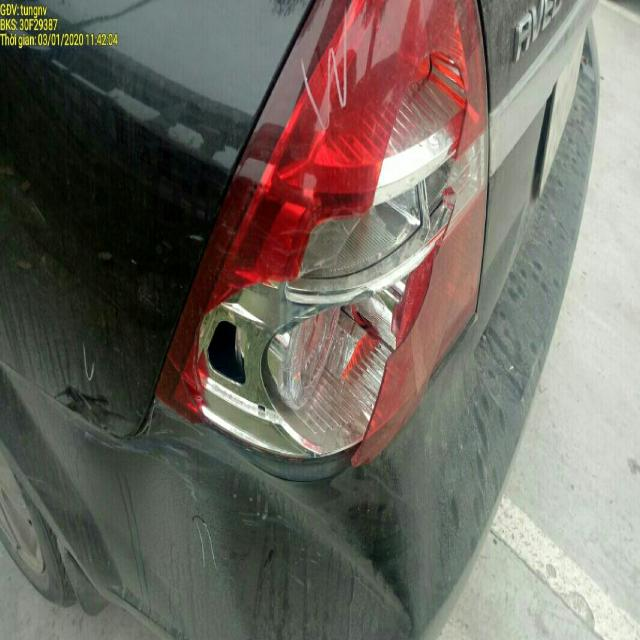Dechirure: (52, 377, 152, 435)
Phare abime: (189, 91, 495, 454)
